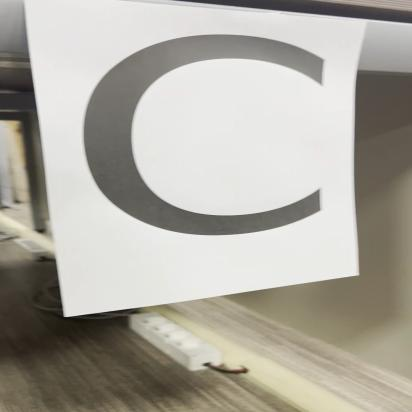seat: (54, 16, 355, 276)
